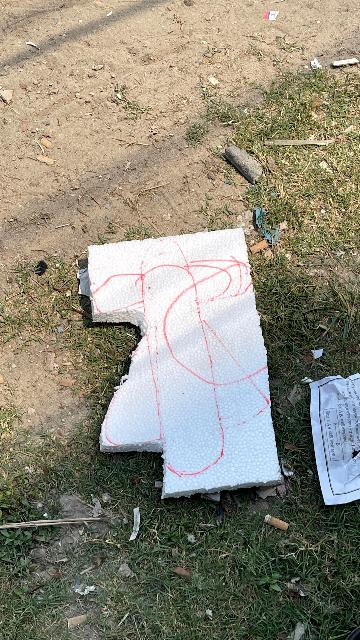cocksheet: (76, 219, 294, 504)
